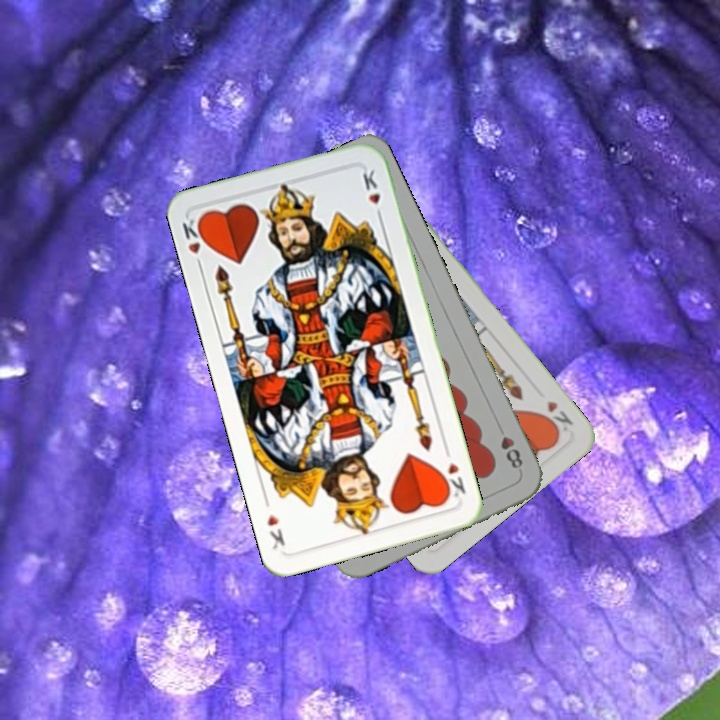H8: (496, 432, 526, 474)
HK: (178, 214, 211, 273), (538, 396, 576, 437), (437, 458, 468, 501)
